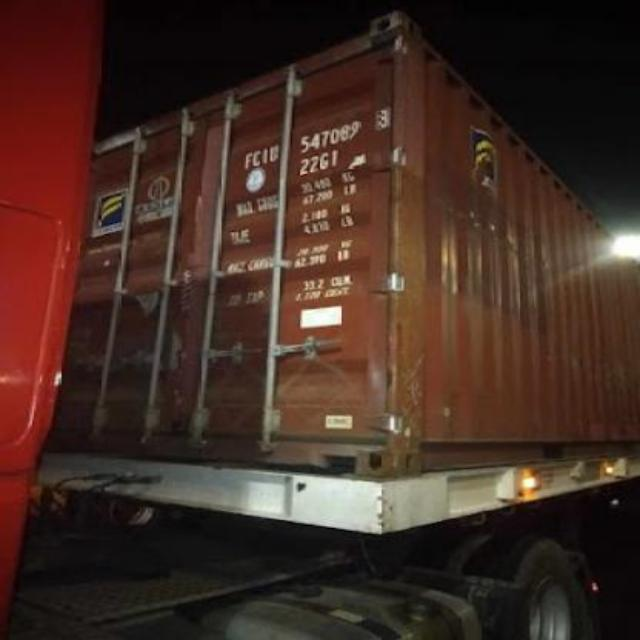0: (328, 123, 338, 147)
4: (308, 128, 318, 150)
5: (296, 130, 310, 154)
7: (316, 126, 329, 150)
8: (372, 108, 392, 130), (338, 121, 348, 141)
9: (346, 114, 359, 146)
C: (252, 147, 262, 171)
F: (240, 148, 252, 172)
I: (258, 140, 268, 170)
U: (268, 139, 278, 165)
